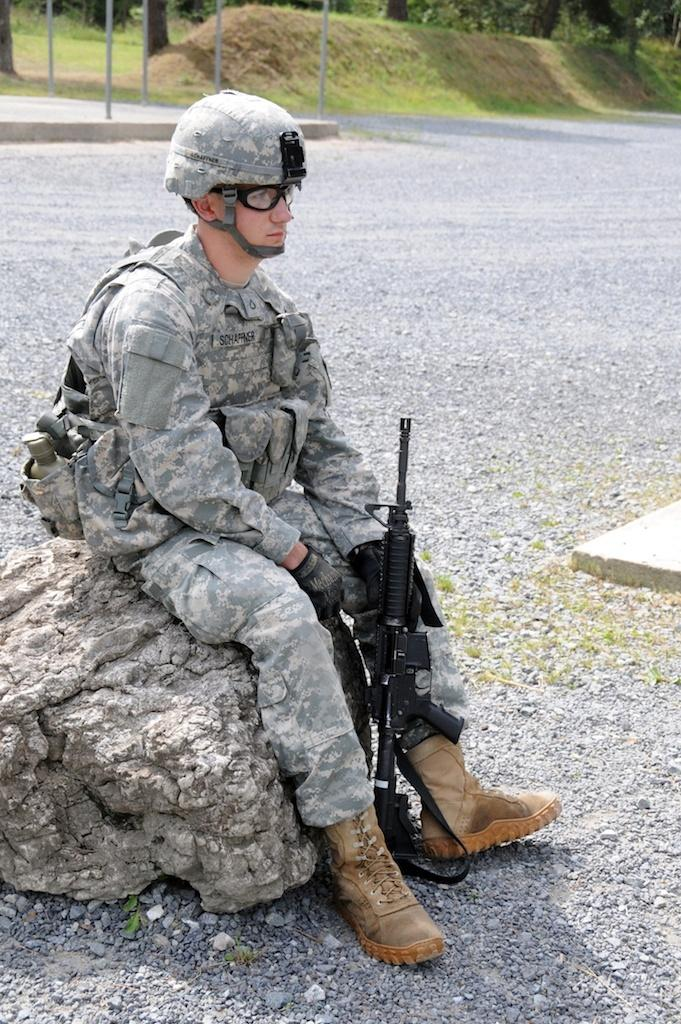Rifle: (370, 412, 464, 858)
